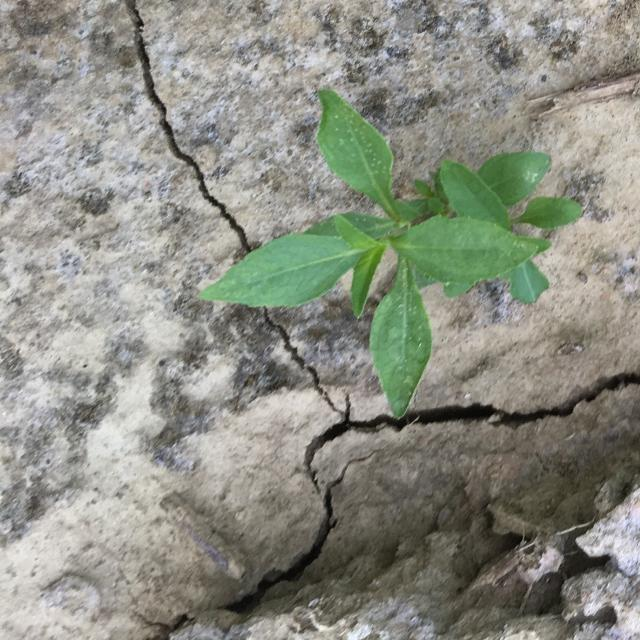Eclipta: (198, 88, 584, 419)
